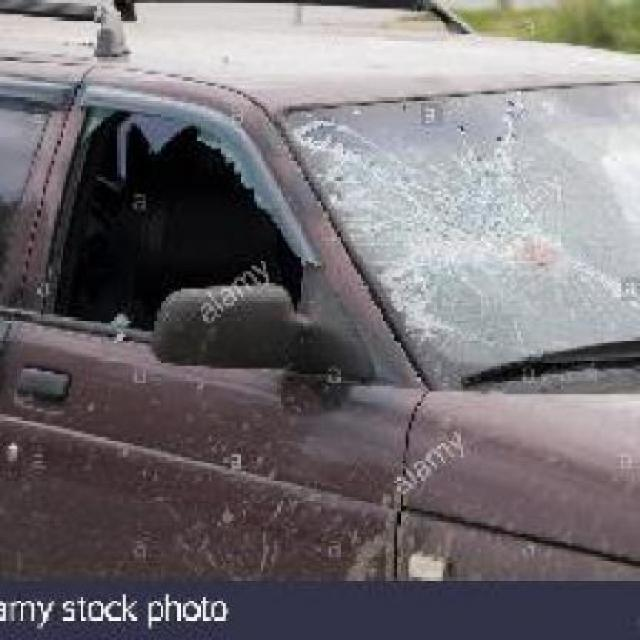damaged-window: (52, 82, 336, 388)
damaged-windscreen: (268, 89, 638, 377)
